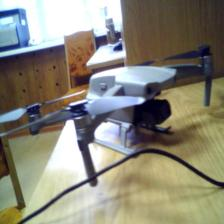drone: (3, 44, 224, 184)
